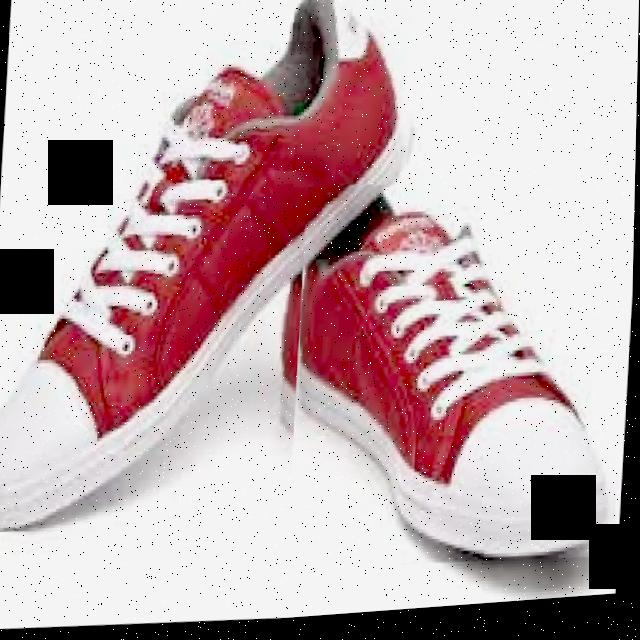shoe: (0, 0, 426, 546), (287, 172, 636, 585)
